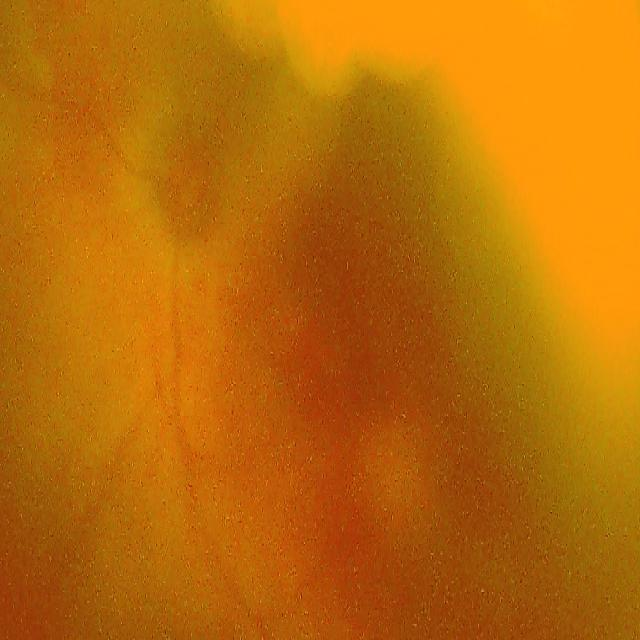optic-nerve: (138, 105, 238, 267)
